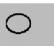no answer: (4, 12, 35, 35)
